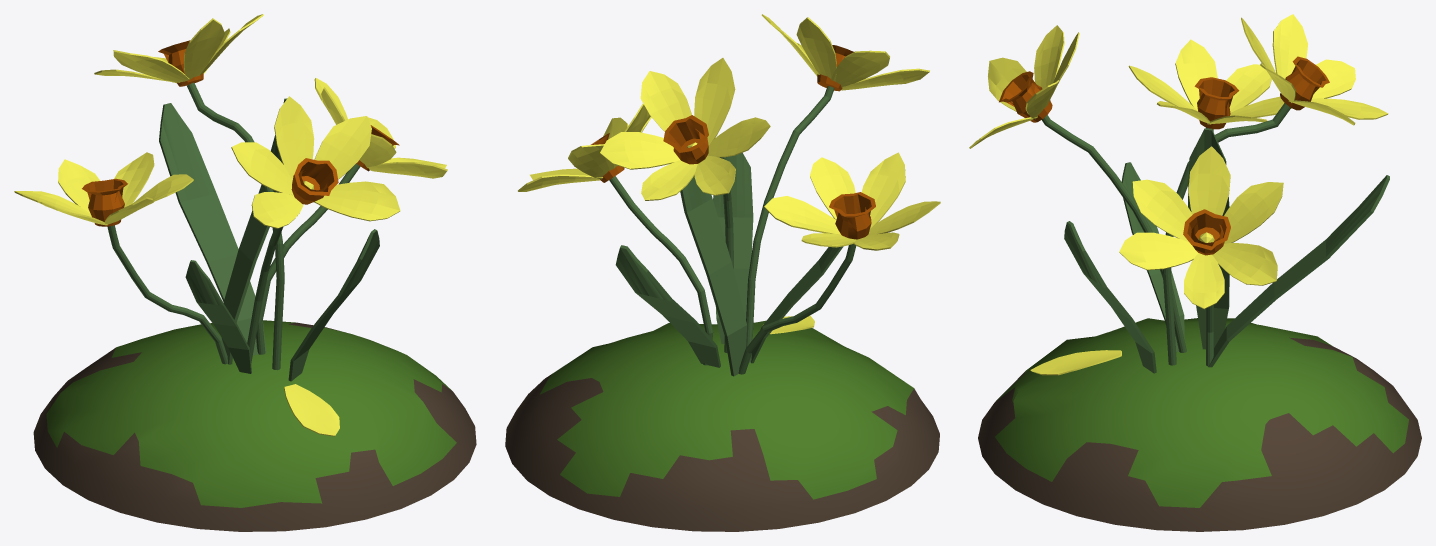
File: 2Gw0Pca1YRS.glb
The picture shows the model from 3 angles, left to right: view 1: azimuth 30°, elevation 25°; view 2: azimuth 150°, elevation 25°; view 3: azimuth 270°, elevation 25°; orthographic projection.
Visible parts, largest first — view 1: Sphere001, GeoSphere002, Box013; view 2: Sphere001, Box013, GeoSphere002; view 3: Sphere001, Box013, GeoSphere002.
Boxes of the visible parts, x1,y1,x2,y2 form: Sphere001: [33, 320, 476, 531]; GeoSphere002: [82, 40, 399, 381]; Box013: [14, 14, 447, 436]; Sphere001: [505, 320, 939, 531]; Box013: [518, 14, 940, 334]; GeoSphere002: [591, 45, 875, 376]; Sphere001: [978, 318, 1421, 531]; Box013: [969, 14, 1388, 375]; GeoSphere002: [999, 56, 1389, 373].
Size of the model in its own units: 1.05 by 1 by 1.
